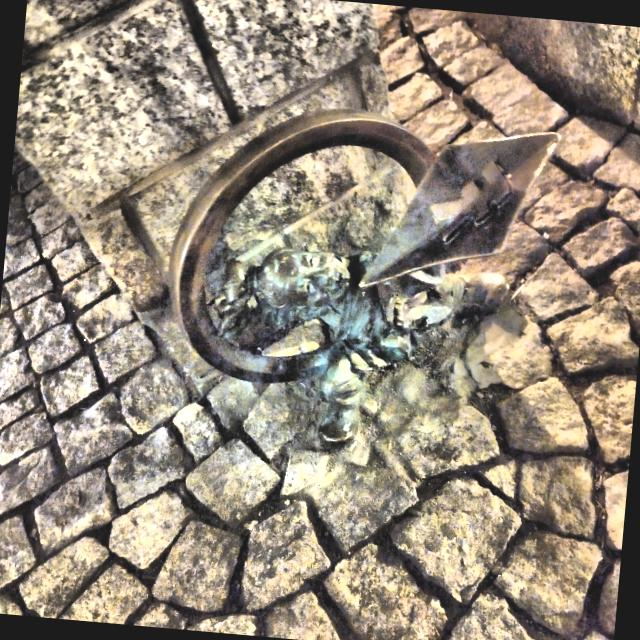TianTian: (170, 109, 558, 442)
